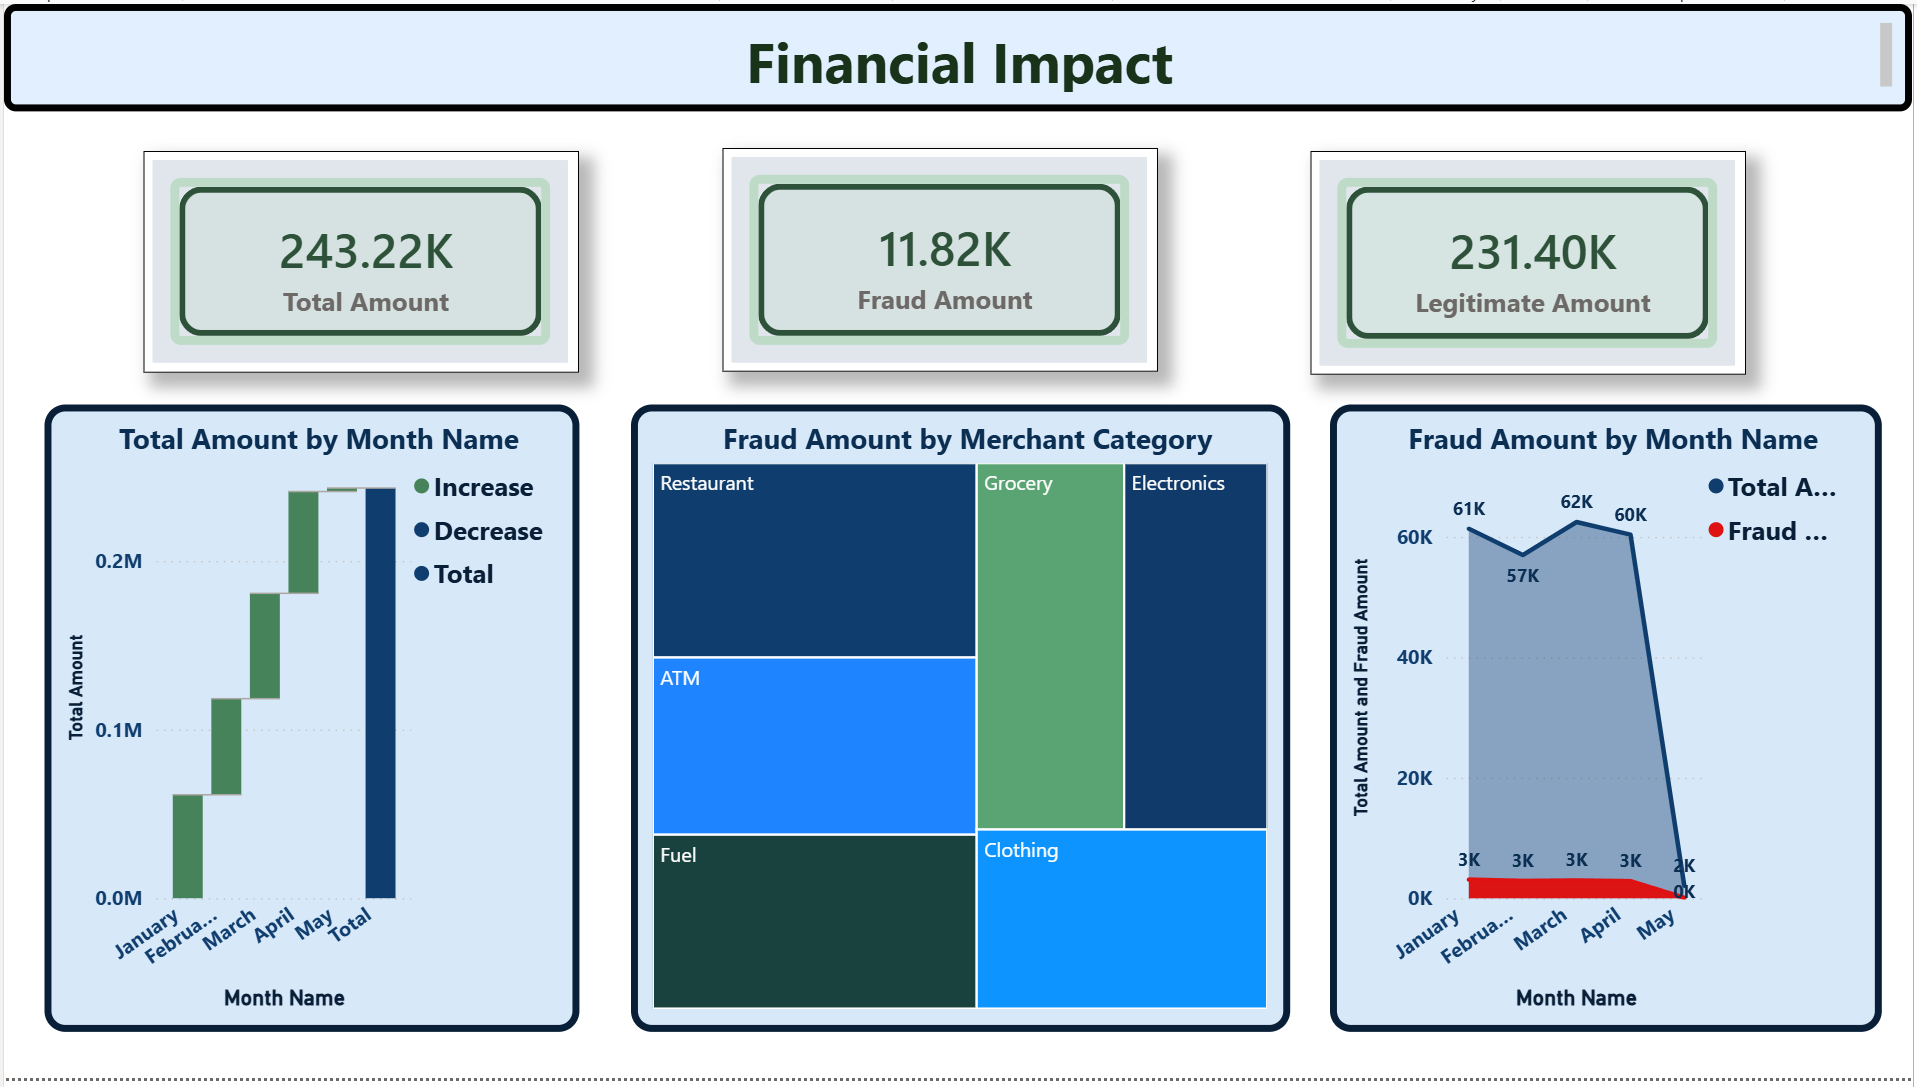

Layout of this report page (visuals, bound fields, positions):
{"tool":"powerbi","page":{"name":"Financial Impact","canvas":[1280,720],"ordinal":4},"visuals":[{"type":"textbox","box":[0,0,1279.5,71.7],"z":0},{"type":"cardVisual","fields":{"Data":["FactTransactions.Total Amount"]},"box":[93.4,98.4,291.9,148.5],"z":1000},{"type":"cardVisual","fields":{"Data":["FactTransactions.Fraud Amount"]},"box":[482.1,96.8,291.9,150.1],"z":2000},{"type":"cardVisual","fields":{"Data":["FactTransactions.Legitimate Amount"]},"box":[875.8,98.4,291.9,150.1],"z":3000},{"type":"waterfallChart","fields":{"Category":["FactTransactions.Month Name"],"Y":["FactTransactions.Total Amount"]},"box":[26.7,268.6,358.6,420.4],"z":4000},{"type":"treemap","title":"Fraud Amount by Merchant Category","fields":{"Group":["FactTransactions.Merchant_Category"],"Values":["FactTransactions.Fraud Amount"]},"box":[420.4,268.6,442.1,420.4],"z":5000},{"type":"areaChart","title":" Fraud Amount by Month Name","fields":{"Category":["FactTransactions.Month Name"],"Y":["FactTransactions.Total Amount","FactTransactions.Fraud Amount"]},"box":[889.1,268.6,370.3,420.4],"z":6000}]}

Visuals, with their boxes in screenshot pixels (x1, y1, x2, y2), scaled from the page's 1280x720 canvas onto the 1917x1087 screenshot:
textbox: crop(0, 0, 1916, 108)
cardVisual - FactTransactions.Total Amount: crop(140, 149, 577, 373)
cardVisual - FactTransactions.Fraud Amount: crop(722, 146, 1159, 373)
cardVisual - FactTransactions.Legitimate Amount: crop(1312, 149, 1749, 375)
waterfallChart - FactTransactions.Month Name x FactTransactions.Total Amount: crop(40, 406, 577, 1040)
"Fraud Amount by Merchant Category" treemap: crop(630, 406, 1292, 1040)
" Fraud Amount by Month Name" areaChart: crop(1332, 406, 1886, 1040)
